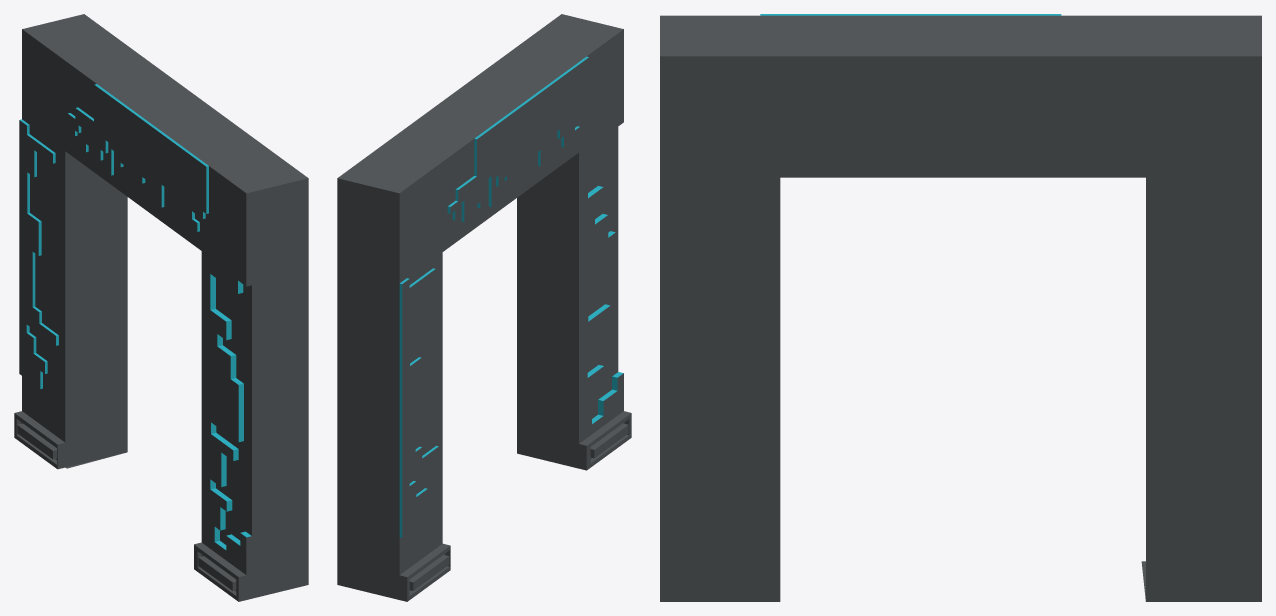
The model's file is EspacioContenidoPuertaInteriorAltoNI.gltf.
3 renders of one model, left to right at view 1: azimuth 30°, elevation 25°; view 2: azimuth 150°, elevation 25°; view 3: azimuth 270°, elevation 25°, orthographic. The views are drawn at different scales.
Parts seen in each view (by area): view 1: Cubo.66; view 2: Cubo.66; view 3: Cubo.66.
Part boxes in pixels (box(x1,y1,x2,y2)): Cubo.66: box(14, 14, 308, 601); Cubo.66: box(337, 14, 631, 601); Cubo.66: box(660, 14, 1261, 601).
Bounding box in the file's own units: 0.3682 × 2 × 2.
1 material, 1 textured.
